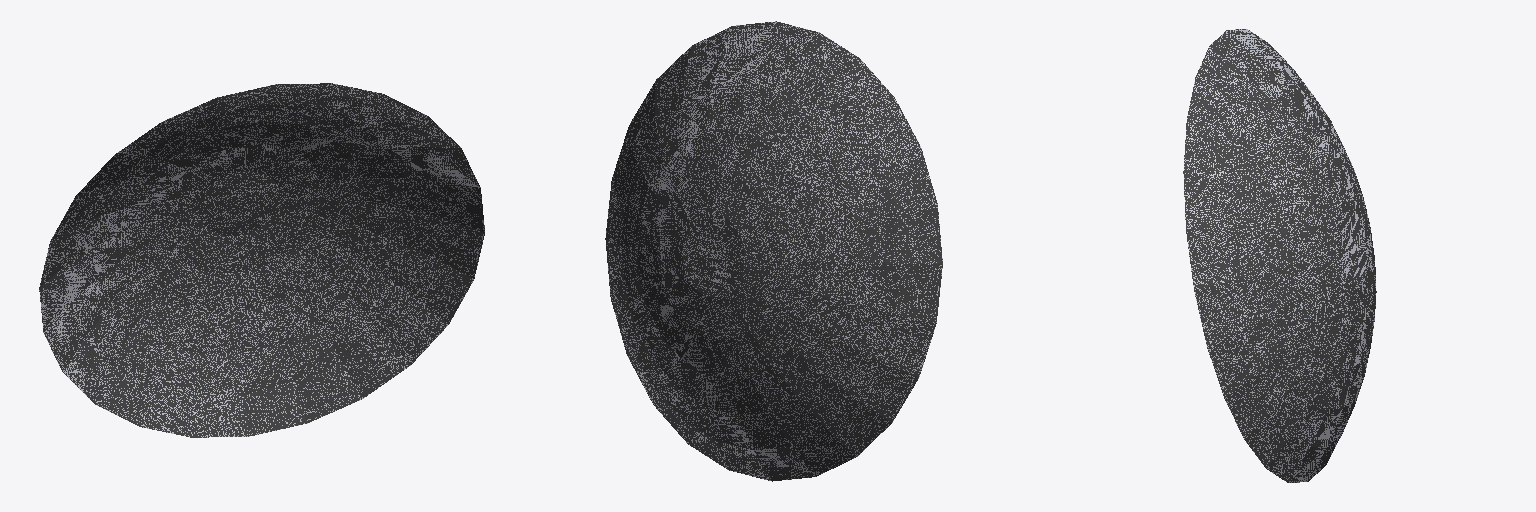
Rendered from original-20.obj.
3 renders of one model, left to right at view 1: azimuth 30°, elevation 25°; view 2: azimuth 150°, elevation 25°; view 3: azimuth 270°, elevation 25°, orthographic.
Parts seen in each view (by area): view 1: #ID97; view 2: #ID97; view 3: #ID97.
Part boxes in pixels (x1,y1,x2,y2): #ID97: (39, 83, 484, 437); #ID97: (605, 21, 942, 481); #ID97: (1183, 29, 1376, 482).
Size of the model in its own units: 0.0254 by 0.0253 by 0.011.